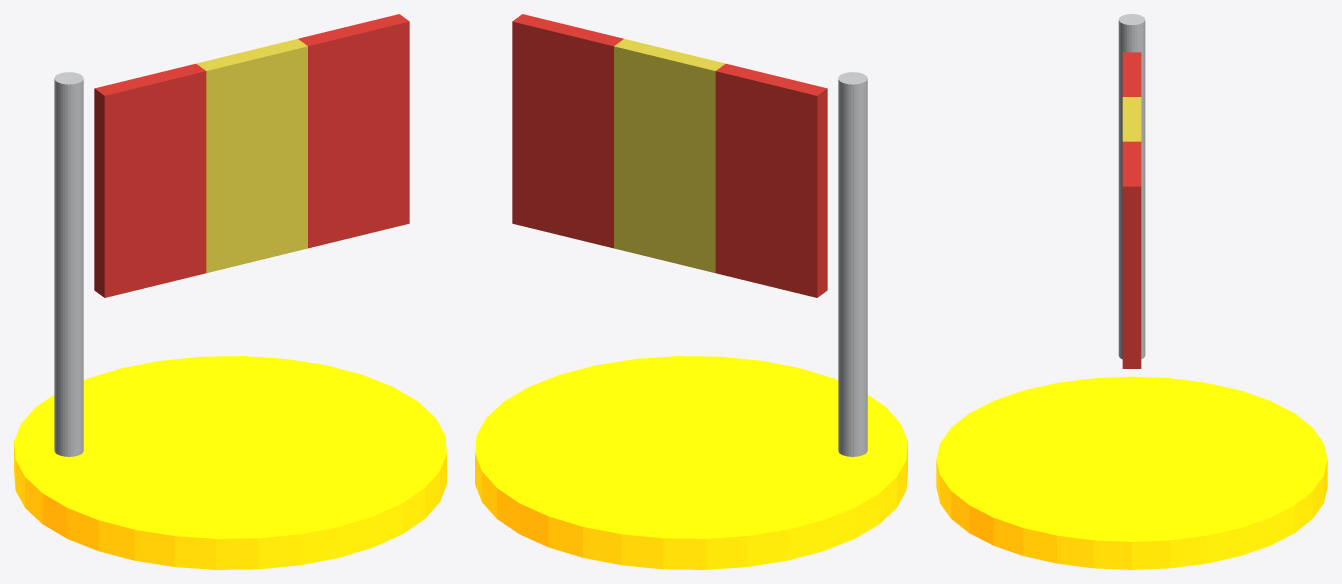
File: spanish_spain_flag.glb
The picture shows the model from 3 angles, left to right: view 1: azimuth 30°, elevation 25°; view 2: azimuth 150°, elevation 25°; view 3: azimuth 270°, elevation 25°; orthographic projection. The views are drawn at different scales.
Visible parts, largest first — view 1: 11_01_Popular_Spanish_Spain_Flag_ROOT_base, 11_01_Popular_Spanish_Spain_Flag_part_02, 11_01_Popular_Spanish_Spain_Flag_part_04, 11_01_Popular_Spanish_Spain_Flag_part_03, 11_01_Popular_Spanish_Spain_Flag_part_01; view 2: 11_01_Popular_Spanish_Spain_Flag_ROOT_base, 11_01_Popular_Spanish_Spain_Flag_part_02, 11_01_Popular_Spanish_Spain_Flag_part_04, 11_01_Popular_Spanish_Spain_Flag_part_03, 11_01_Popular_Spanish_Spain_Flag_part_01; view 3: 11_01_Popular_Spanish_Spain_Flag_ROOT_base, 11_01_Popular_Spanish_Spain_Flag_part_04, 11_01_Popular_Spanish_Spain_Flag_part_01, 11_01_Popular_Spanish_Spain_Flag_part_02, 11_01_Popular_Spanish_Spain_Flag_part_03.
Part boxes in pixels (x1,y1,x2,y2): 11_01_Popular_Spanish_Spain_Flag_ROOT_base: (14,356,446,569); 11_01_Popular_Spanish_Spain_Flag_part_02: (94,63,206,297); 11_01_Popular_Spanish_Spain_Flag_part_04: (298,14,409,248); 11_01_Popular_Spanish_Spain_Flag_part_03: (196,39,307,272); 11_01_Popular_Spanish_Spain_Flag_part_01: (54,72,83,456); 11_01_Popular_Spanish_Spain_Flag_ROOT_base: (475,356,907,569); 11_01_Popular_Spanish_Spain_Flag_part_02: (715,63,827,297); 11_01_Popular_Spanish_Spain_Flag_part_04: (512,14,623,248); 11_01_Popular_Spanish_Spain_Flag_part_03: (614,39,725,272); 11_01_Popular_Spanish_Spain_Flag_part_01: (838,72,867,456); 11_01_Popular_Spanish_Spain_Flag_ROOT_base: (936,376,1327,569); 11_01_Popular_Spanish_Spain_Flag_part_04: (1122,141,1141,368); 11_01_Popular_Spanish_Spain_Flag_part_01: (1118,14,1145,359); 11_01_Popular_Spanish_Spain_Flag_part_02: (1122,52,1141,96); 11_01_Popular_Spanish_Spain_Flag_part_03: (1122,97,1141,141).
Size of the model in its own units: 0.76 by 0.85 by 0.76.
